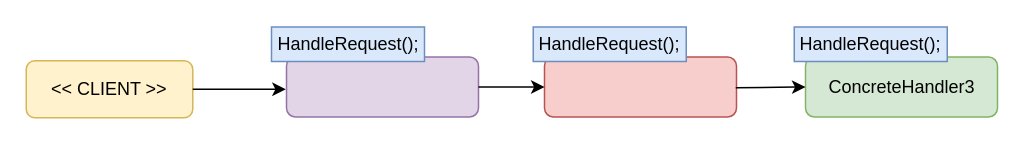
The diagram is 1025 pixels wide and 144 high, and some of its shapes have lost their labels. Each missing label, with the centre of its shape:
ConcreteHandler1: point (381, 86)
ConcreteHandler2: point (639, 86)
